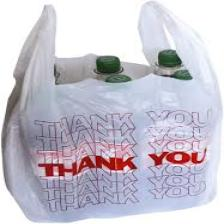plastic: (1, 0, 221, 224), (76, 56, 144, 194), (79, 78, 146, 213), (152, 73, 213, 209), (21, 74, 77, 198), (23, 62, 75, 192), (152, 47, 197, 190)
